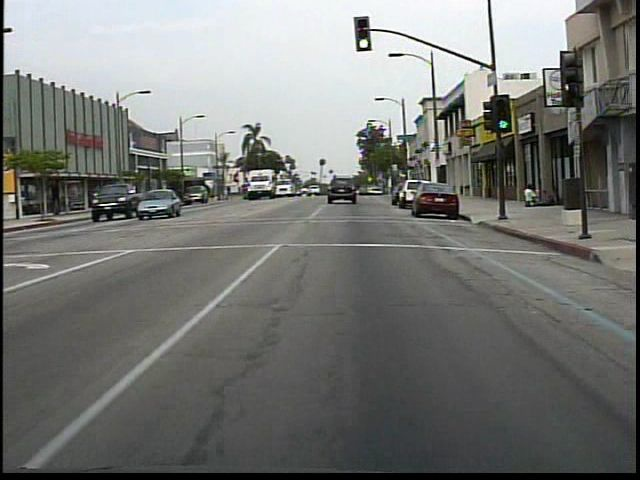person: (519, 183, 537, 209)
